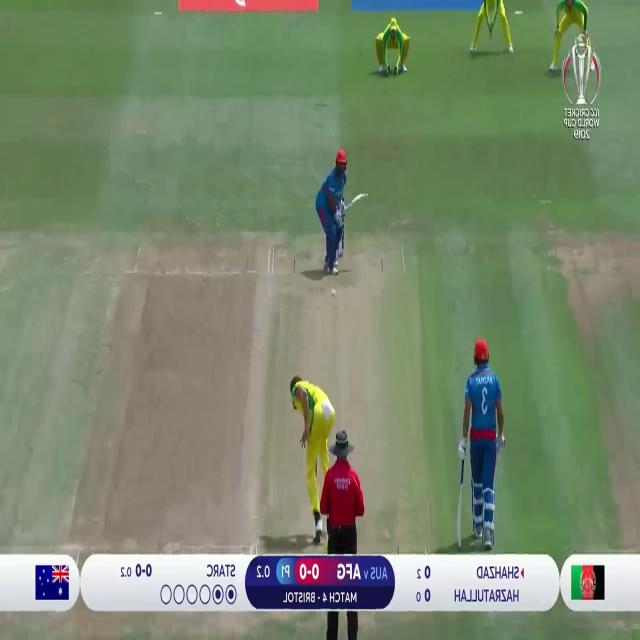ball: (330, 284, 338, 296)
